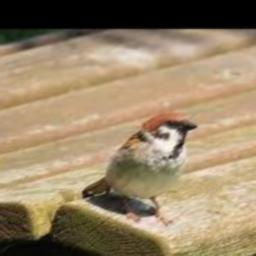Sparrow: (82, 114, 197, 225)
